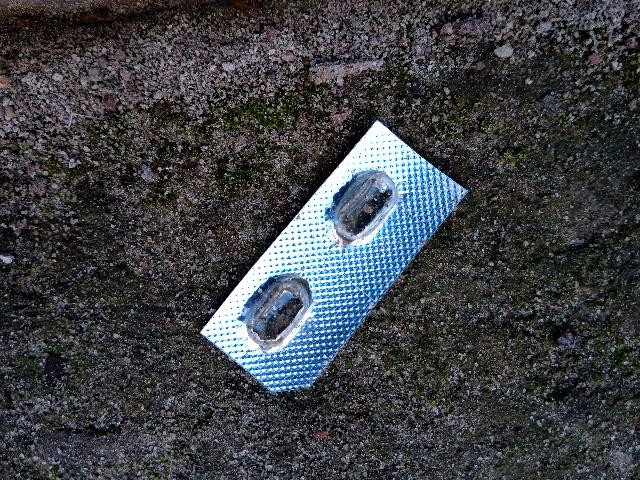medicine: (197, 109, 469, 406)
